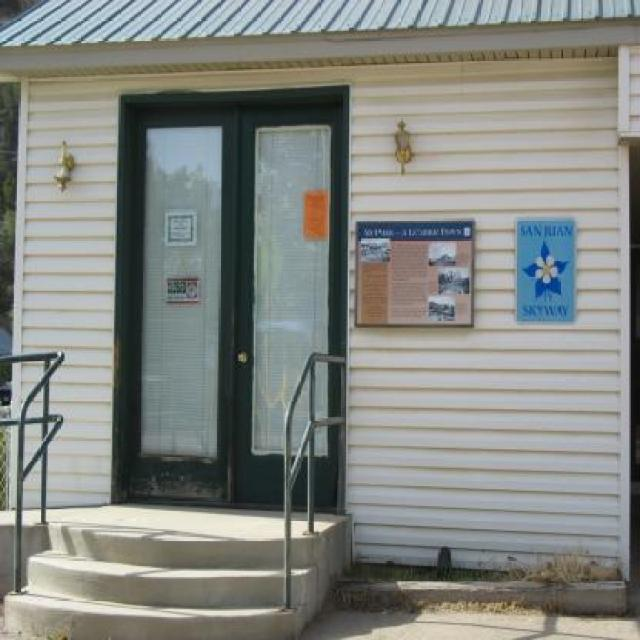stair: (3, 523, 317, 640)
